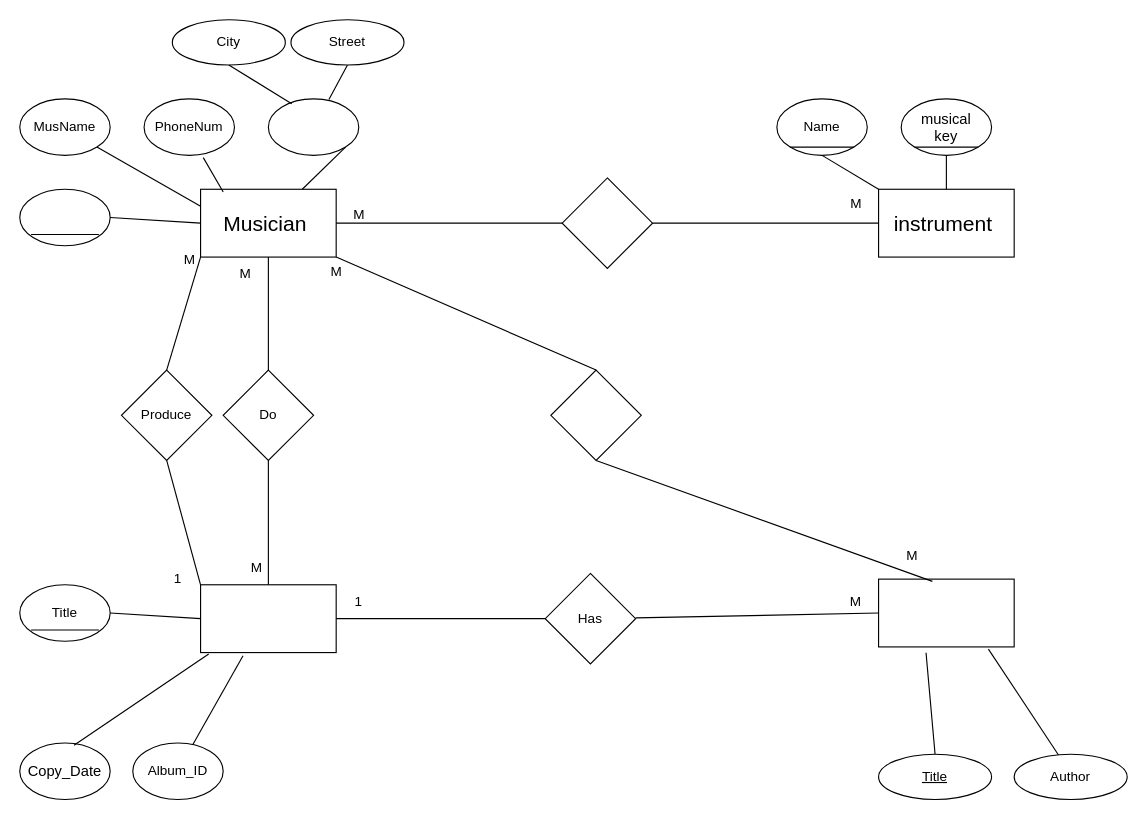
Image size: 1147x819. Some labels were removed from this diagram. Each missing label, with the centre of its shape:
Album: the point at 267,618
Mu_Address: the point at 313,126
Mu_ID: the point at 64,217
Performed: the point at 595,414
Play: the point at 607,222
Songs: the point at 945,612
